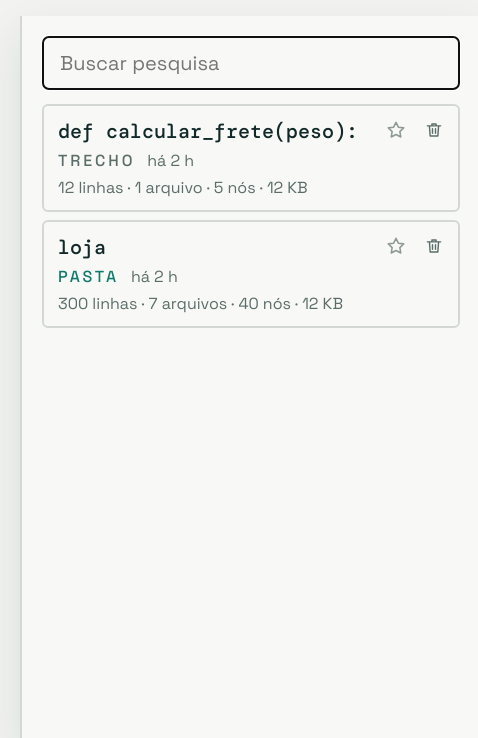
Test: HistoryDrawer › stars a row and unstars it again
This screenshot has width=478, height=738.
Step 1. Click the button named "Pôr loja nos favoritos" → coordinates (396, 246), box top-left (378, 228), bottom-right (414, 264)
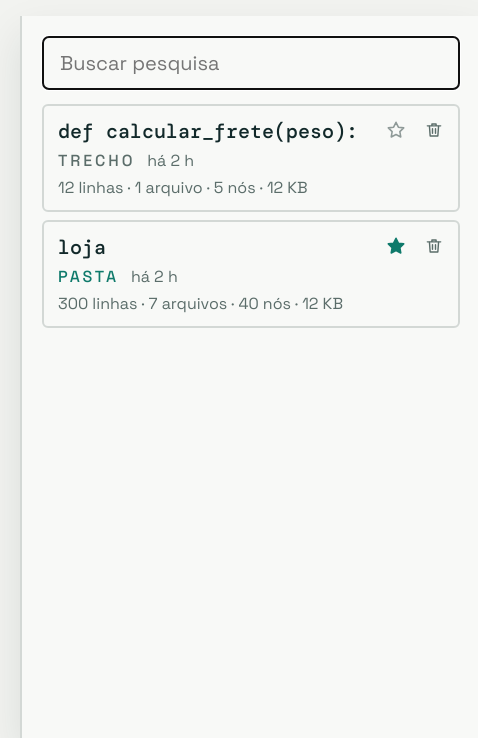
Result: the button named "Tirar loja dos favoritos" is pressed
Step 2. Click the button named "Tirar loja dos favoritos" → coordinates (396, 246), box top-left (378, 228), bottom-right (414, 264)
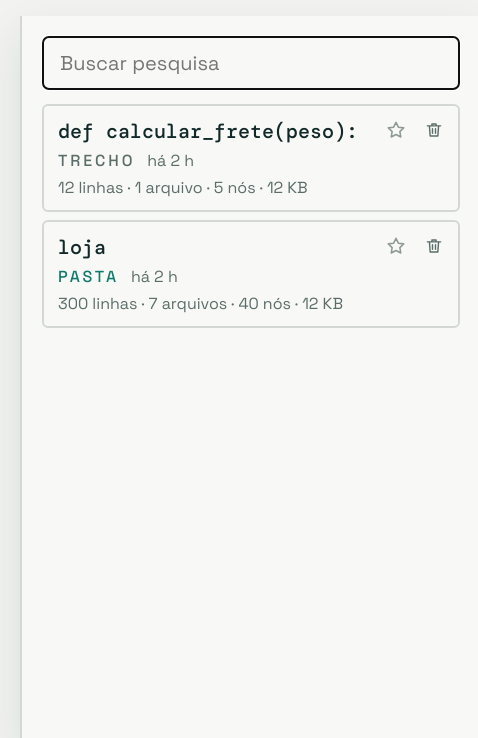
Result: the button named "Pôr loja nos favoritos" is shown at top-left (378, 228), bottom-right (414, 264)
